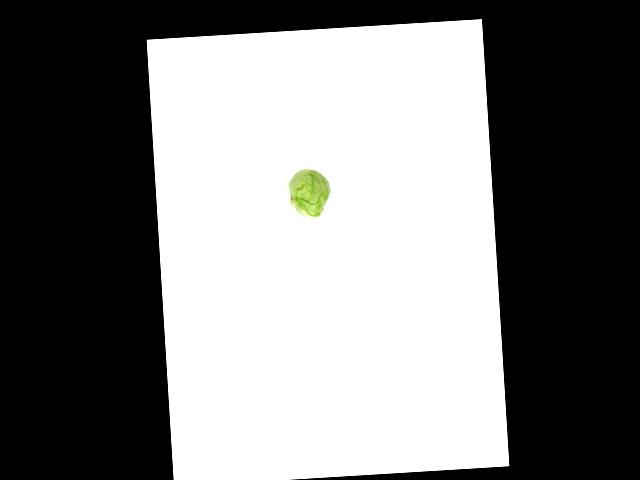lettuce: (288, 163, 336, 223)
